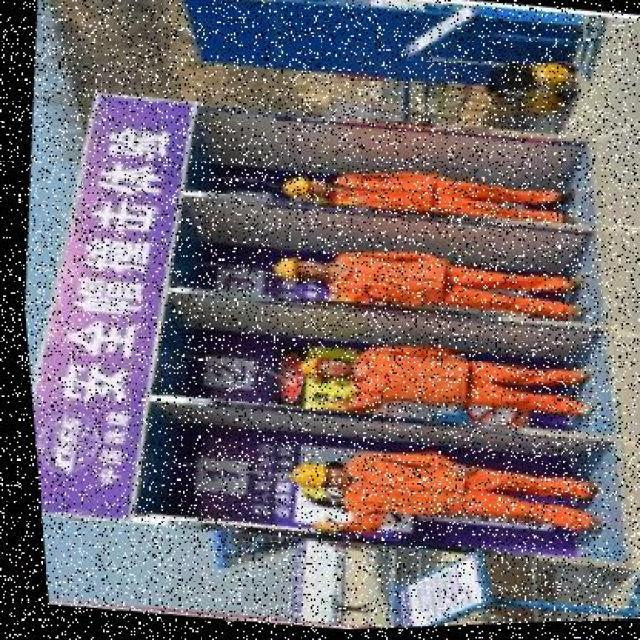helmet: (271, 171, 319, 205), (263, 254, 308, 288), (280, 460, 319, 495), (293, 351, 329, 385)
vest: (340, 340, 468, 414), (333, 454, 463, 520), (326, 252, 436, 308), (333, 166, 436, 218)
